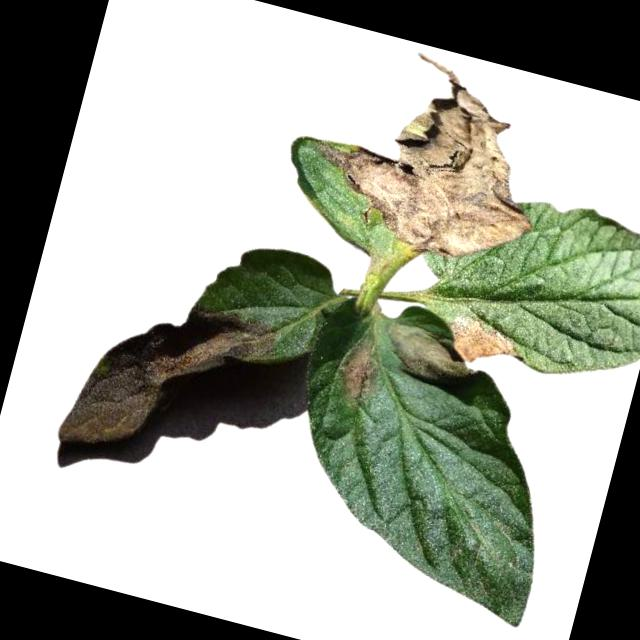Late_blight: (291, 32, 570, 277), (53, 273, 282, 487), (374, 319, 482, 391), (439, 313, 523, 374), (328, 335, 384, 406)
